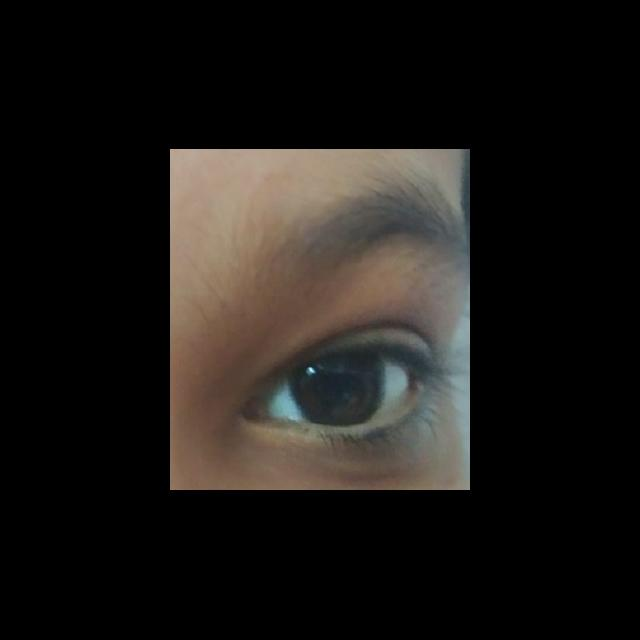eye: (260, 351, 413, 428)
iris: (290, 356, 383, 426)
